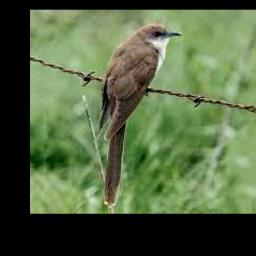Cuckoo: (97, 23, 182, 207)
